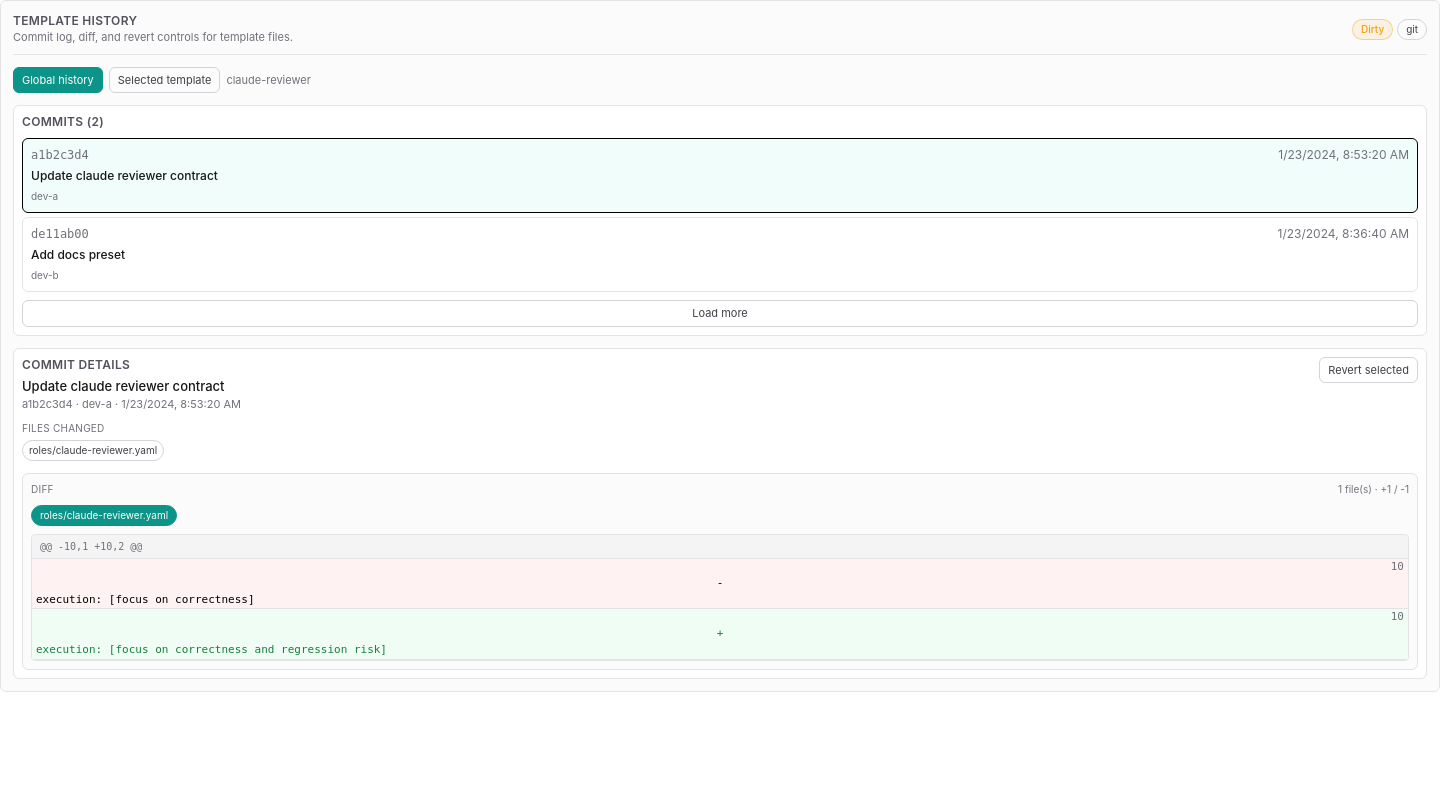
Test case: TemplateHistoryPanel › shows load-more error when pagination request fails
The image size is (1440, 810).
Click the button with test id "template-history-load-more". click: [720, 313]
box: [22,300,1418,326]
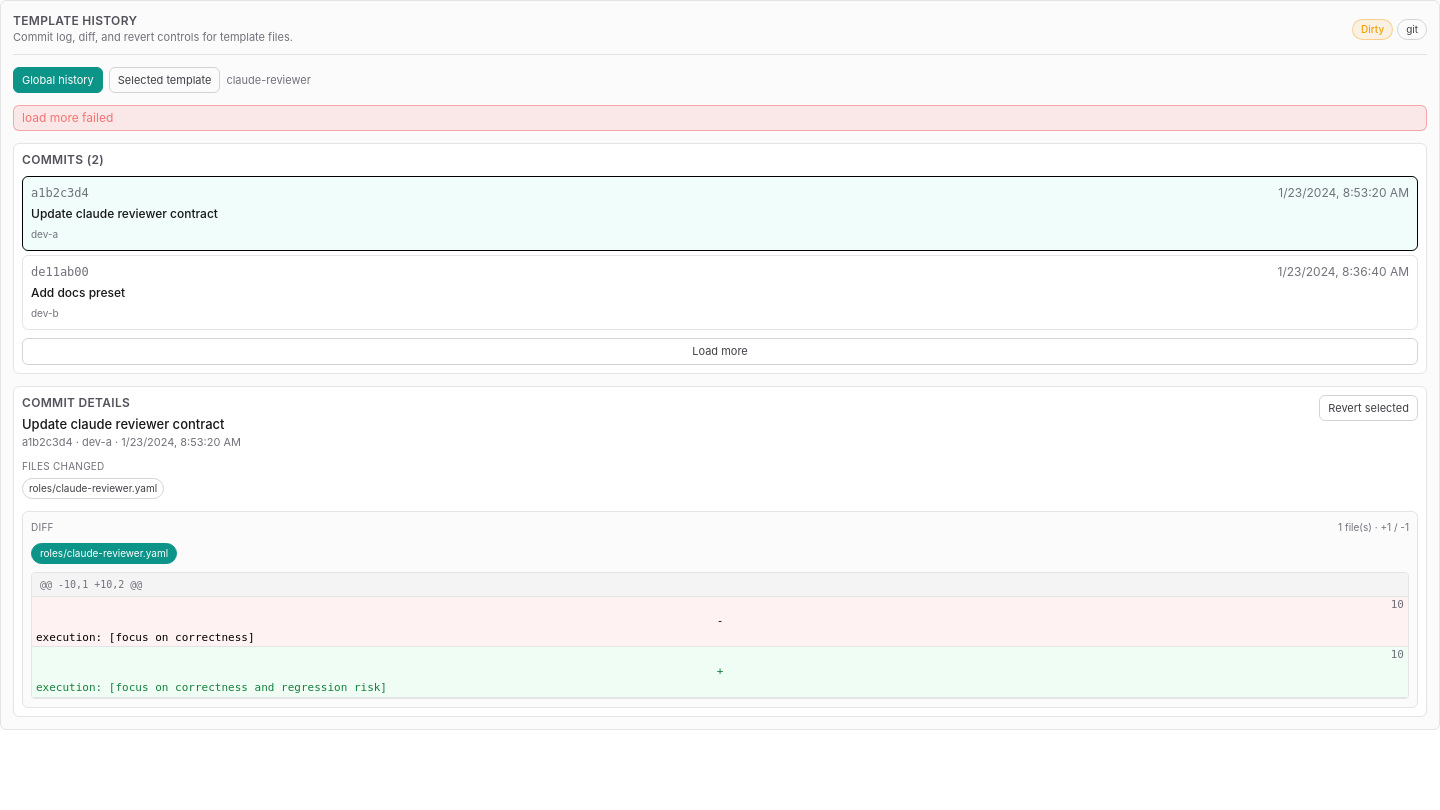
Check: the text with test id "template-history-error" reads "load more failed", box [22,110,113,125]
